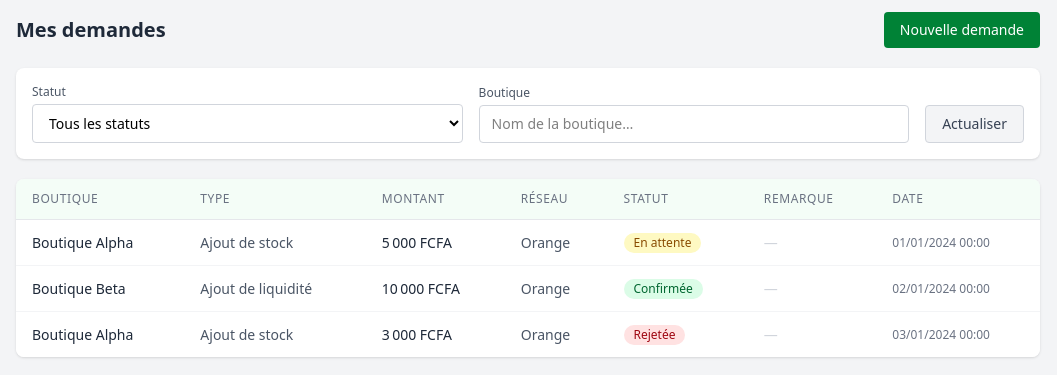
Scenario: TC-031-REQS — DealerRequests › [REQS-13] filtre store affiche uniquement la boutique recherchée
The width and height of the screenshot is (1057, 375).
expect the element with test id "requests-table" is shown: met, box [16,179,1040,357]
In the search field with test id "filter-store": (694, 124) [479,105,909,143], type "Beta"
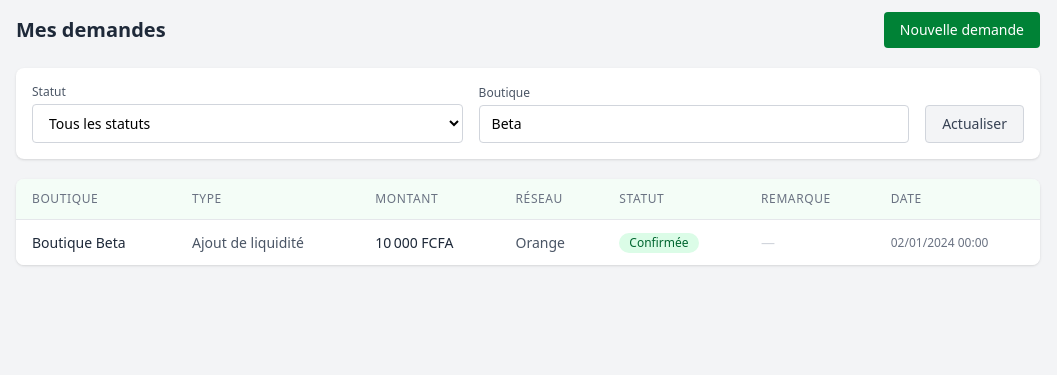
expect the row with test id "request-row-req-2" is shown: met, box [16,220,1040,265]
expect the row with test id "request-row-req-1" is gone: met
